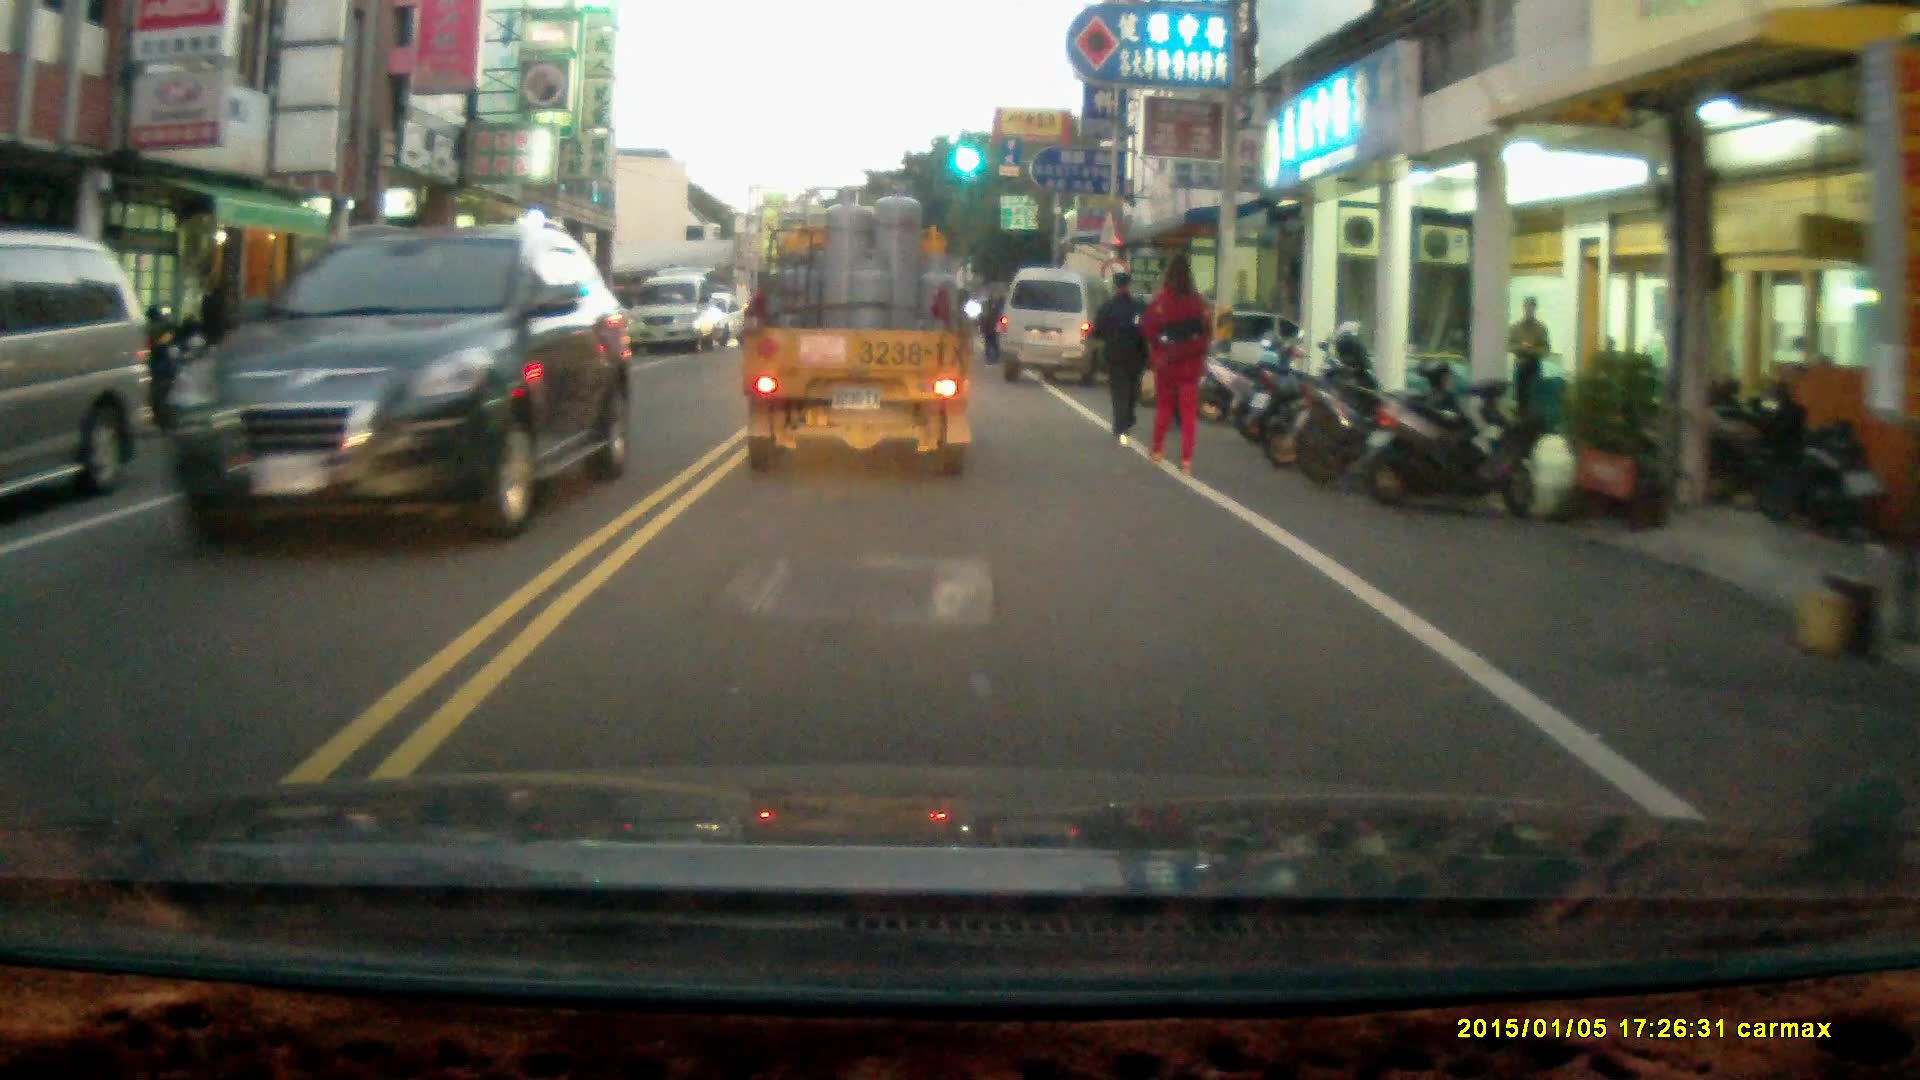pedestrian: (1142, 249, 1214, 474), (1090, 264, 1157, 445), (1505, 293, 1551, 429), (978, 287, 1011, 364)
vehicle: (163, 212, 630, 549), (738, 178, 984, 482), (1, 230, 171, 505), (249, 290, 504, 393), (1003, 266, 1123, 387), (630, 271, 724, 355)
